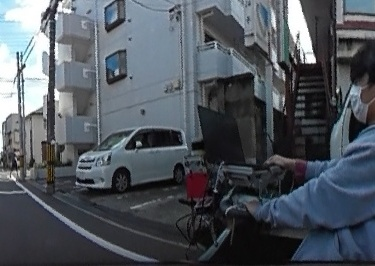person: (236, 40, 375, 266), (9, 152, 20, 177)
